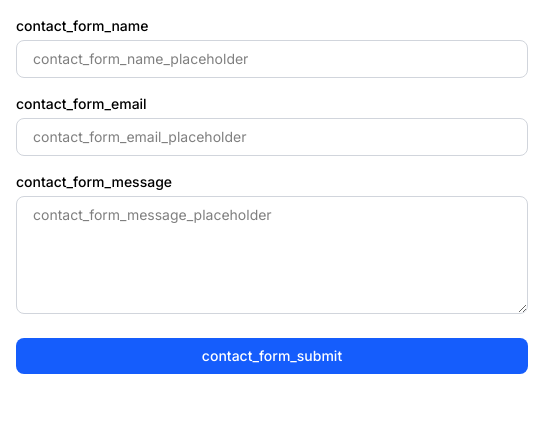
ContactForm › shows error message on failed submission
This screenshot has width=545, height=424.
Type "Test" into the field with id "contact-name" at (272, 59), box [16,40,528,78]
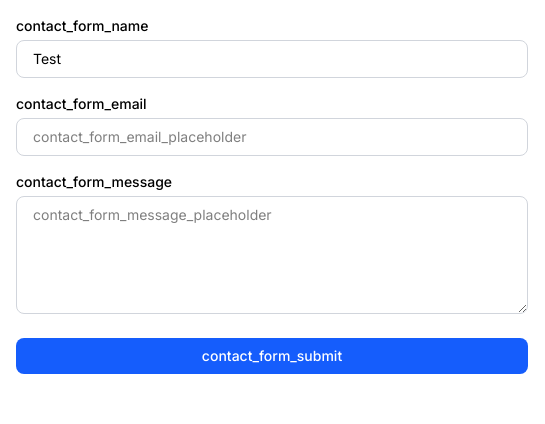
Type "test@example.com" into the field with id "contact-email" at (272, 137), box [16,118,528,156]
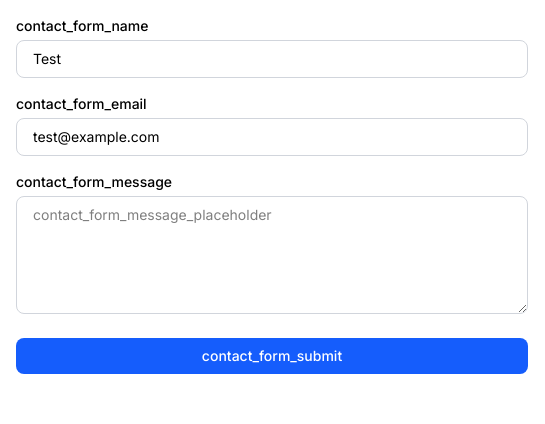
Type "Hello" into the text box with id "contact-message" at (272, 255), box [16,196,528,314]
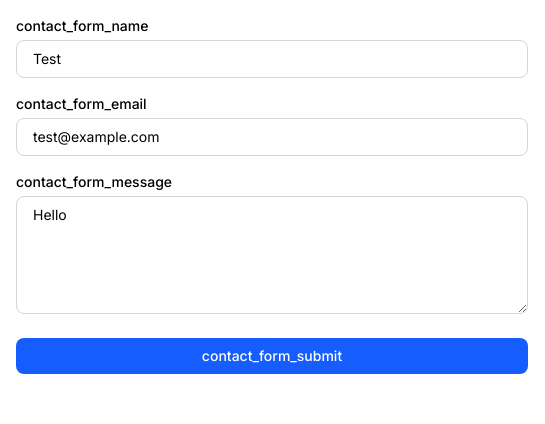
Submit the form
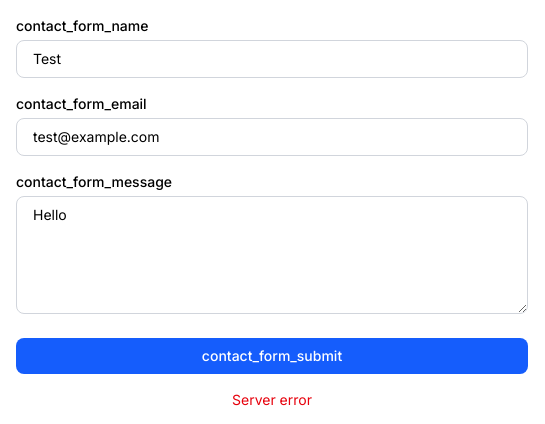
Result: the text "Server error" is shown at [232,391,312,408]
